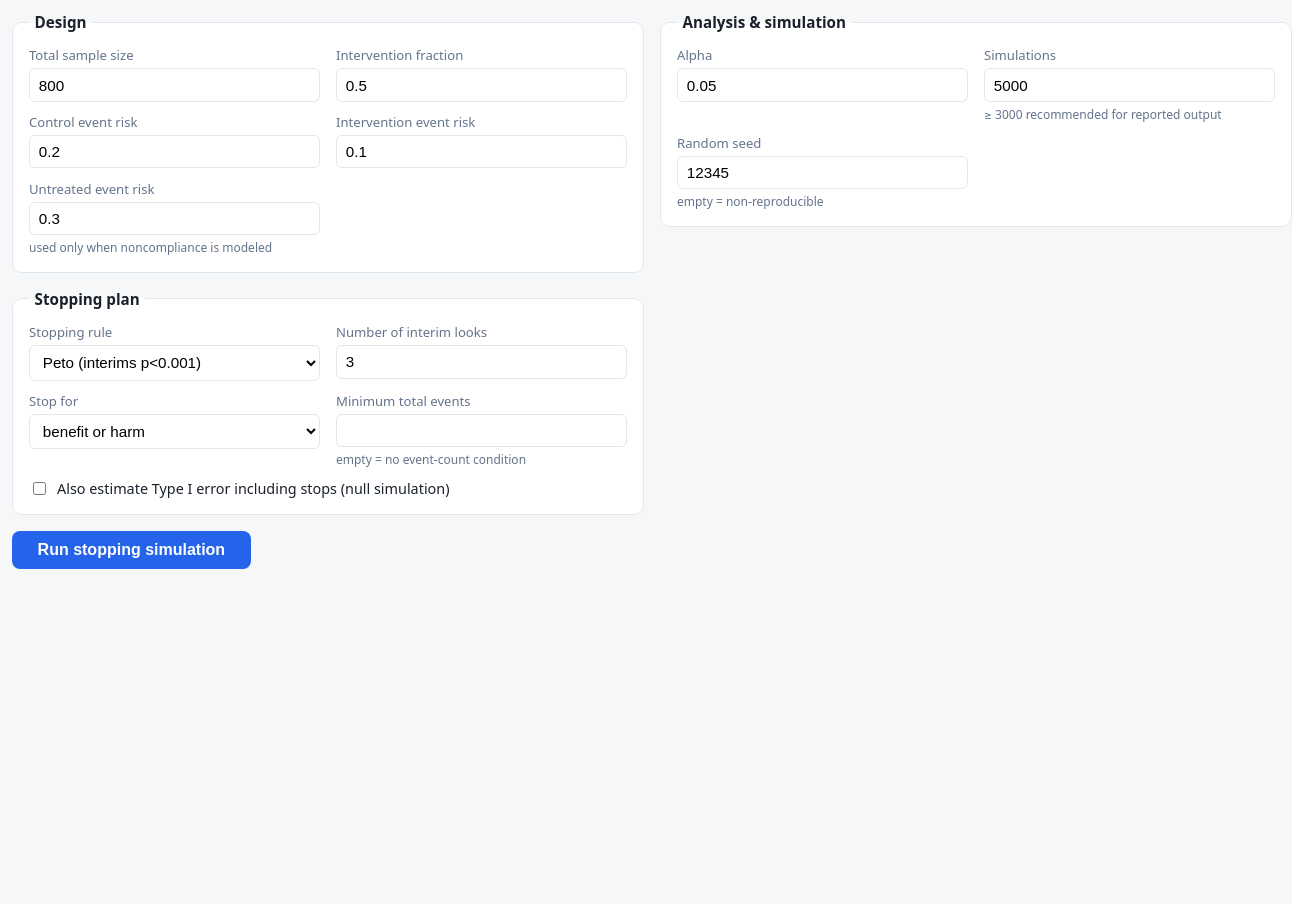
StoppingRules › sends includeTypeIError when the checkbox is on and renders the Type I card
The image size is (1292, 904).
Click the checkbox with test id "type-i-toggle".
click(40, 489)  # box [33,482,46,495]
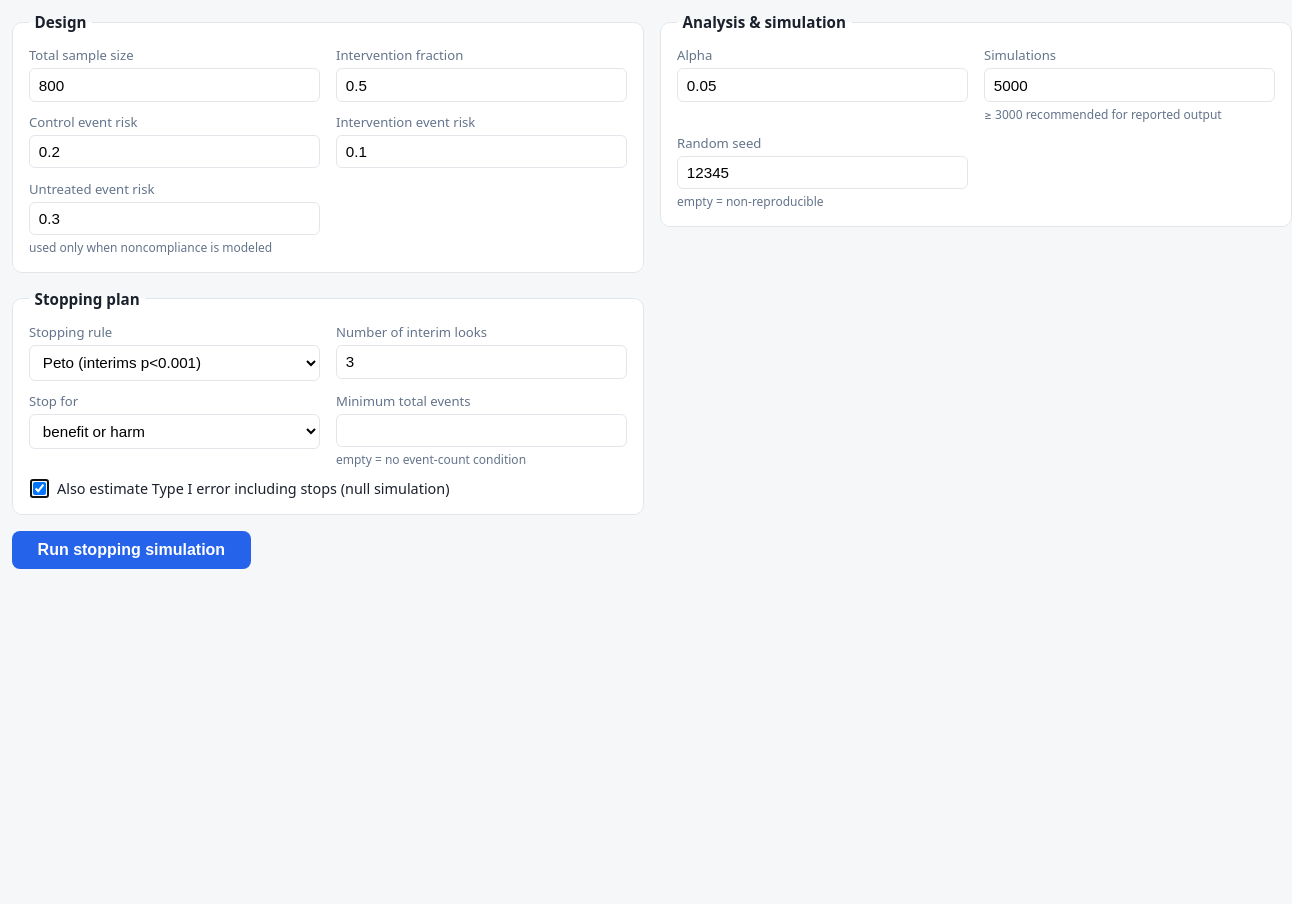
Click the button with test id "run-button".
click(131, 550)  # box [12,531,251,569]
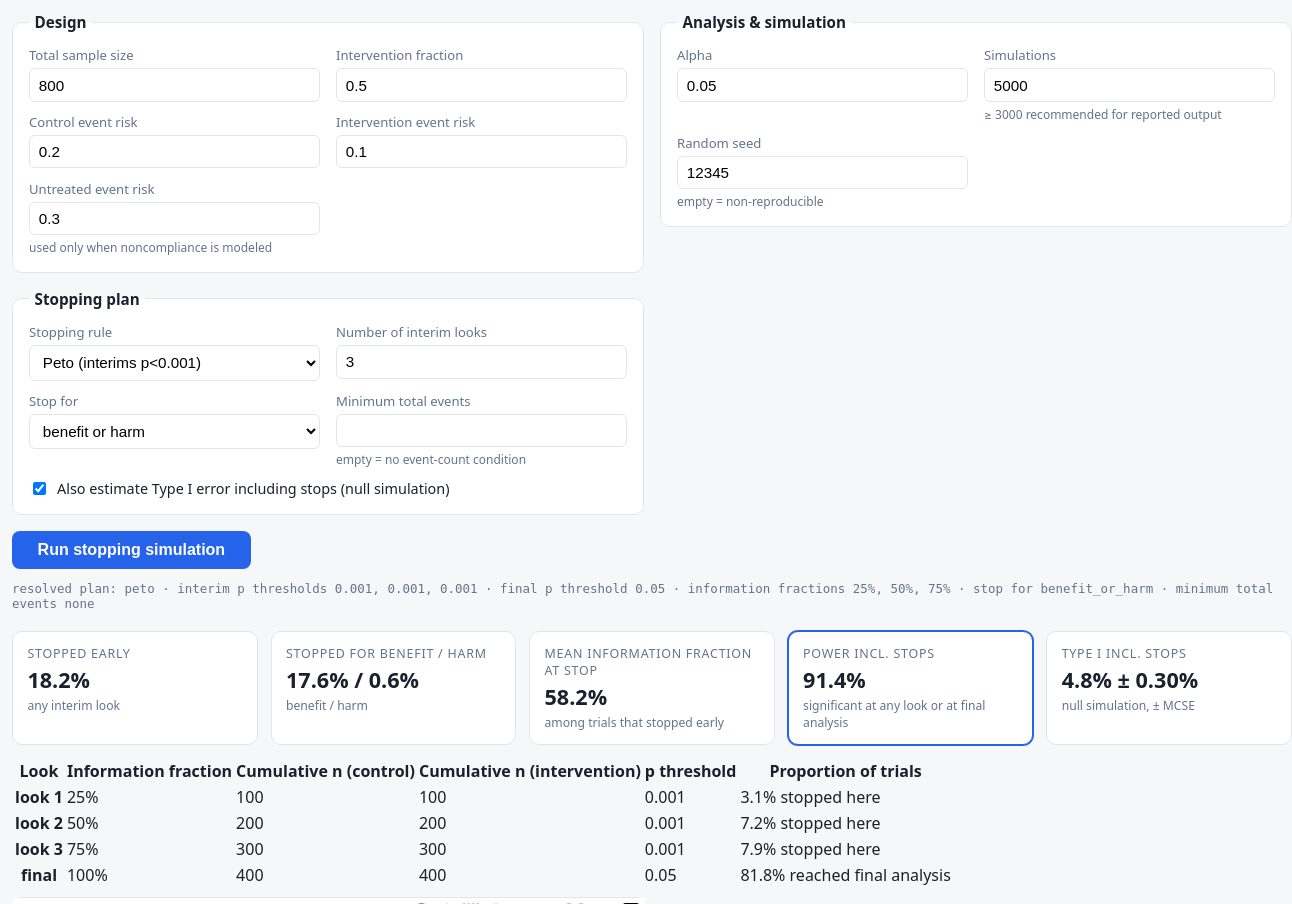
Expected: the element with test id "summary-cards" shows "Type I incl. stops", [1062,645,1187,662]
Expected: the element with test id "summary-cards" shows "4.8% ± 0.30%", [1062,665,1198,694]
